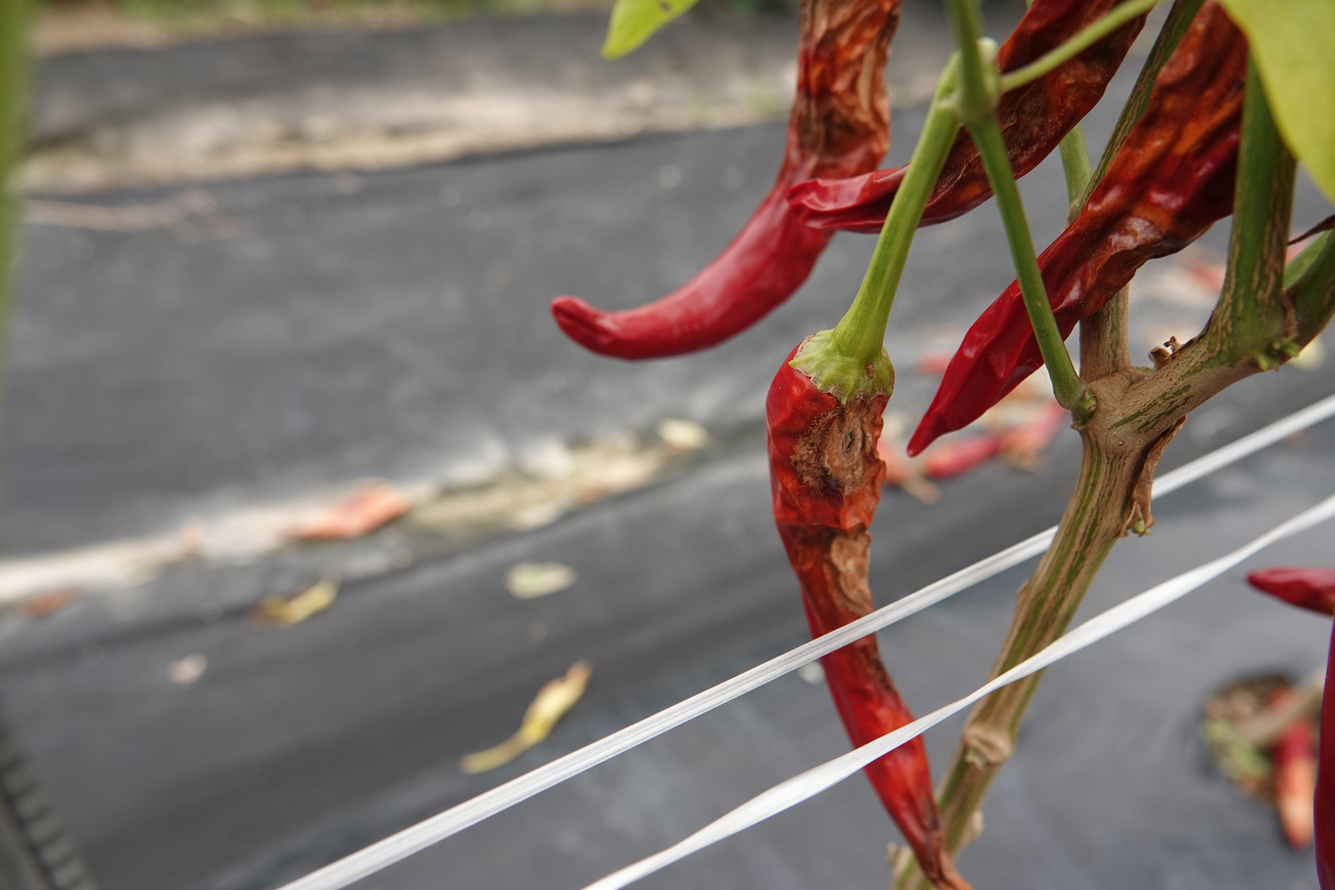Busuk Buah Antraknosa: (542, 0, 906, 378), (769, 328, 1007, 890)
